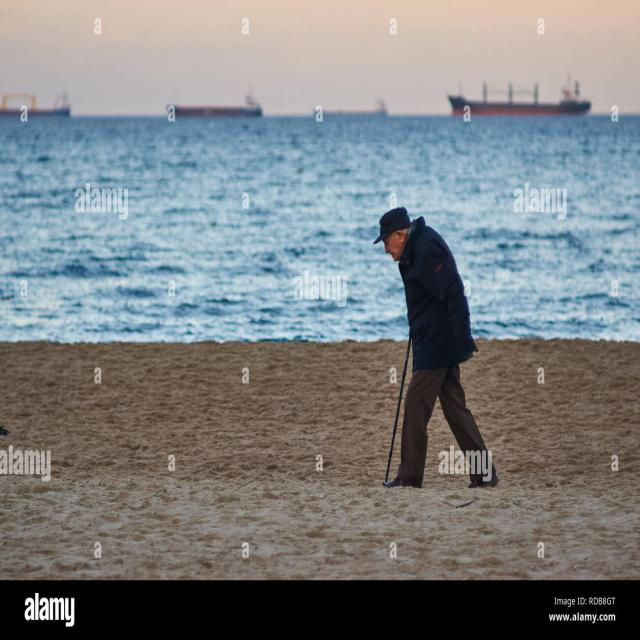idoso em pe: (357, 194, 499, 512)
